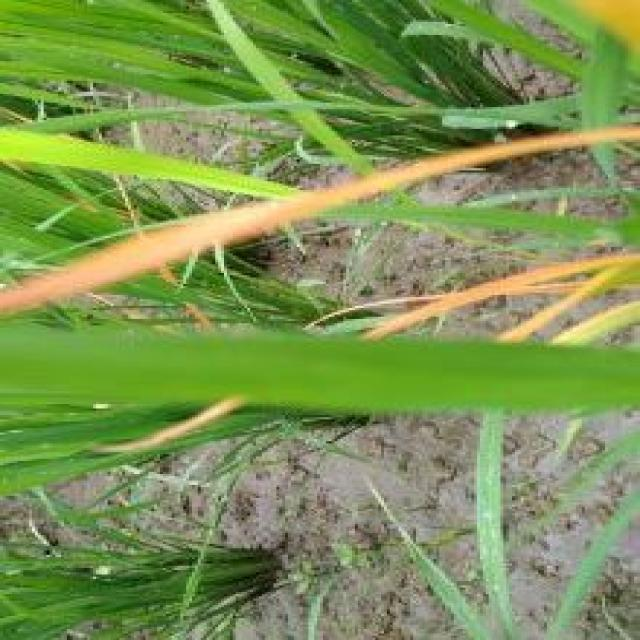Tungro: (0, 118, 640, 336)
